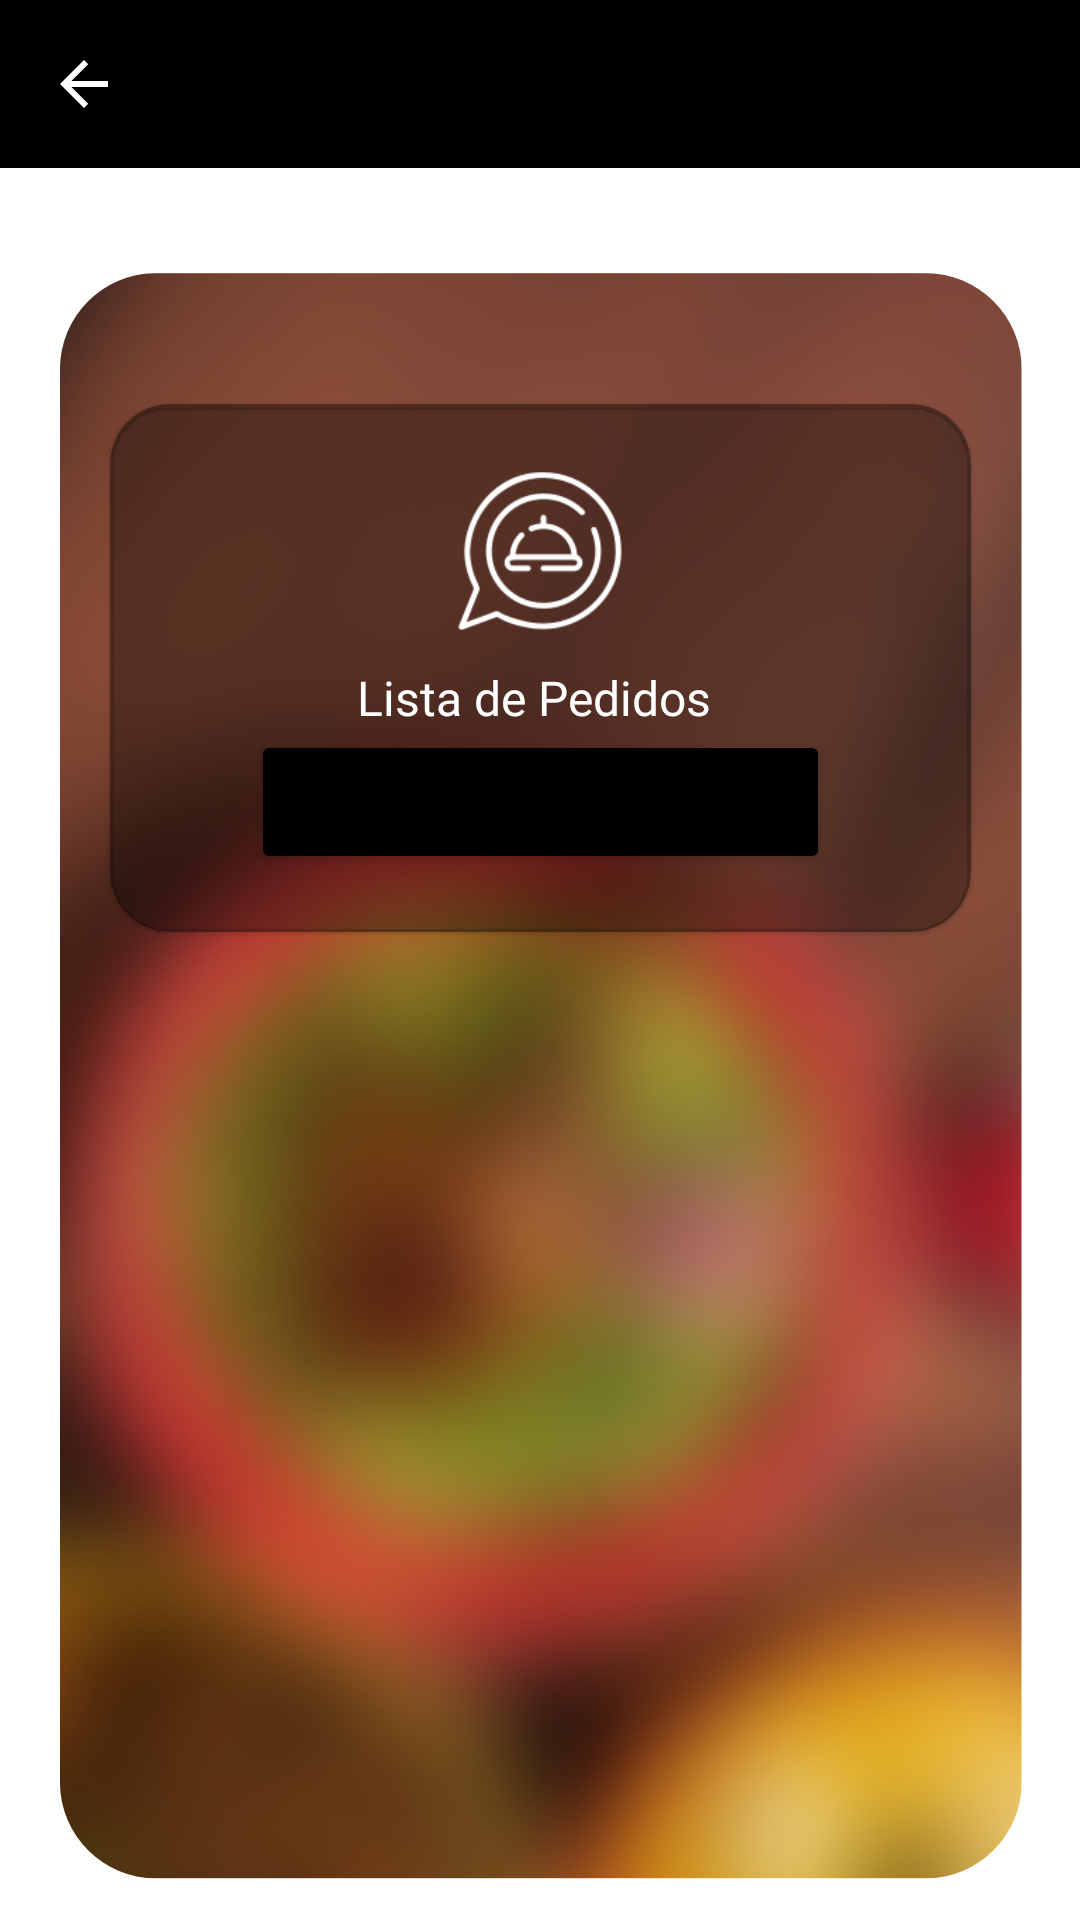

Where to tap for icons on this 1080w x 1920h app screen, as (x,y):
ordenarcomida: (540,551)
